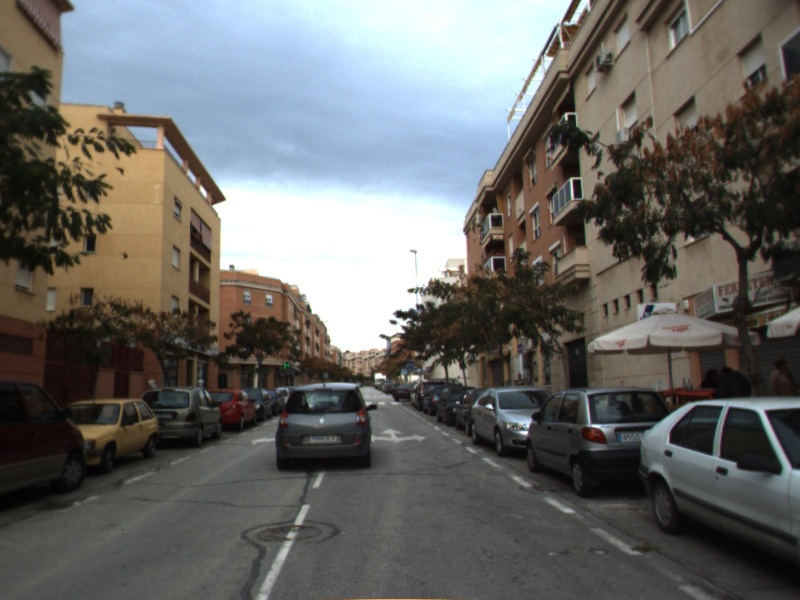STRAIGHT_LEFT_RIGHT: (370, 426, 429, 445)
